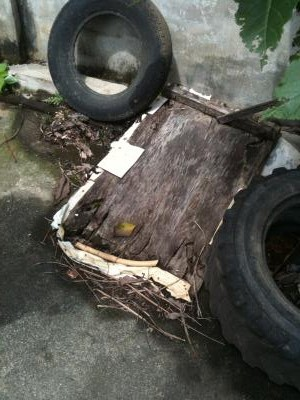tire: (201, 163, 300, 387), (45, 1, 175, 126)
